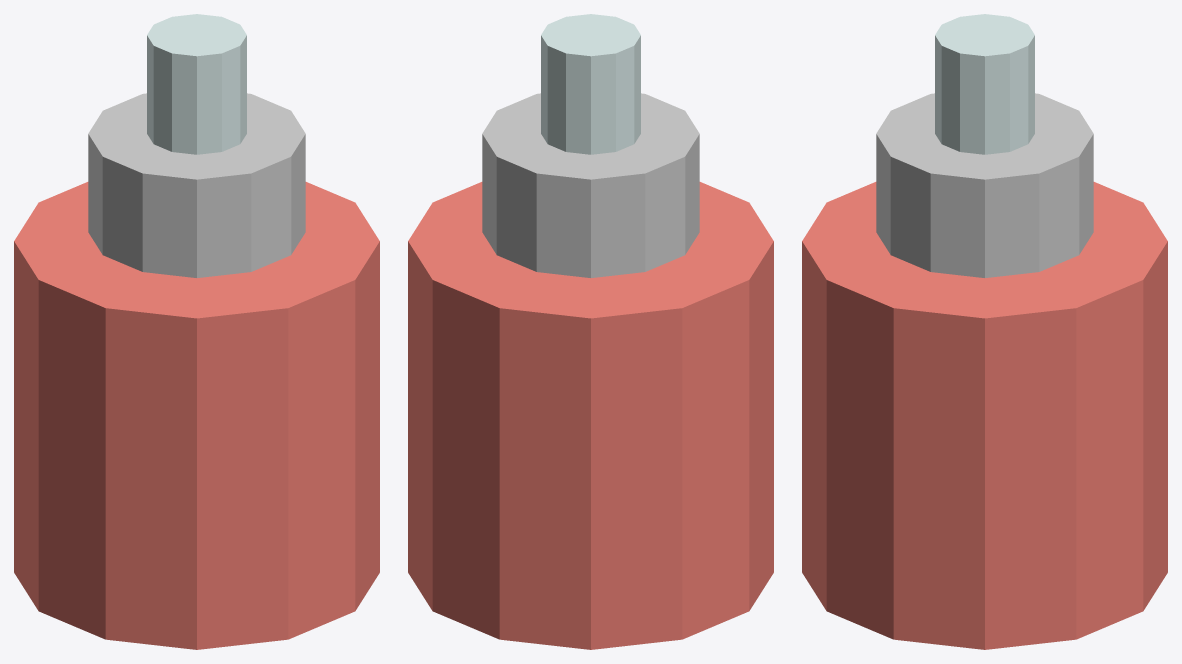
Rendered from bottle2_1.glb.
The picture shows the model from 3 angles, left to right: view 1: azimuth 30°, elevation 25°; view 2: azimuth 150°, elevation 25°; view 3: azimuth 270°, elevation 25°; orthographic projection.
Size of the model in its own units: 0.37 by 0.6 by 0.37.
